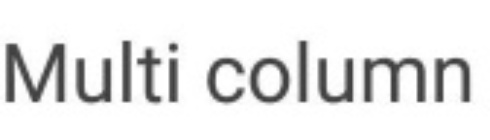TextView: (1, 1, 489, 139)
